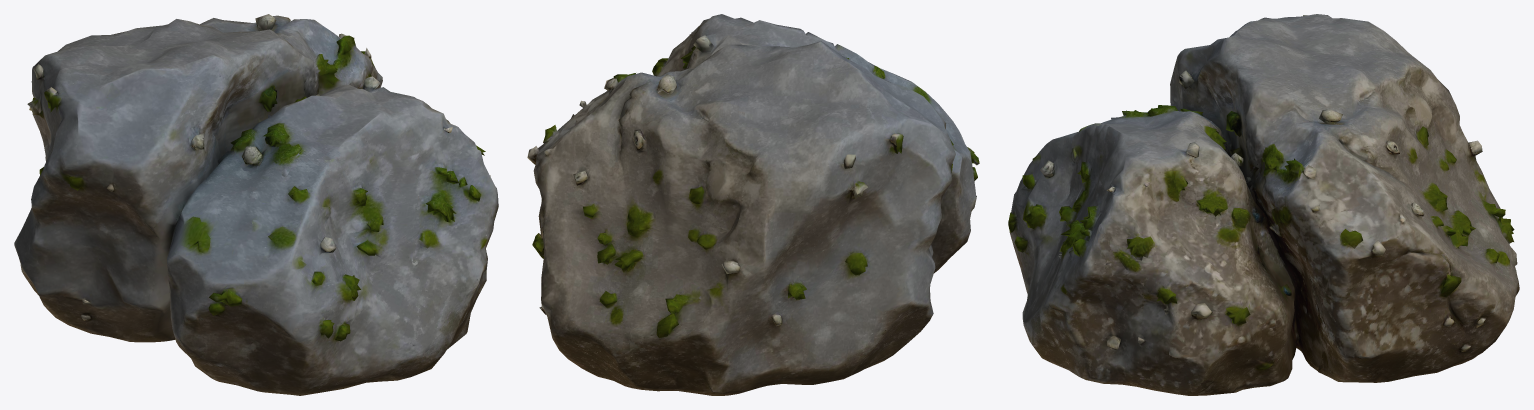
The model's file is boulder-b.glb.
The picture shows the model from 3 angles, left to right: view 1: azimuth 30°, elevation 25°; view 2: azimuth 150°, elevation 25°; view 3: azimuth 270°, elevation 25°; orthographic projection. The views are drawn at different scales.
Visible parts, largest first — view 1: tripo_node_b30c2127-6b93-4a15-b04f-c37fb8f65cf7; view 2: tripo_node_b30c2127-6b93-4a15-b04f-c37fb8f65cf7; view 3: tripo_node_b30c2127-6b93-4a15-b04f-c37fb8f65cf7.
Part boxes in pixels (x1,y1,x2,y2): tripo_node_b30c2127-6b93-4a15-b04f-c37fb8f65cf7: [14, 14, 498, 395]; tripo_node_b30c2127-6b93-4a15-b04f-c37fb8f65cf7: [527, 14, 979, 395]; tripo_node_b30c2127-6b93-4a15-b04f-c37fb8f65cf7: [1008, 14, 1519, 395].
Bounding box in the file's own units: 0.8558 × 0.5949 × 1.
1 material, 1 textured.
